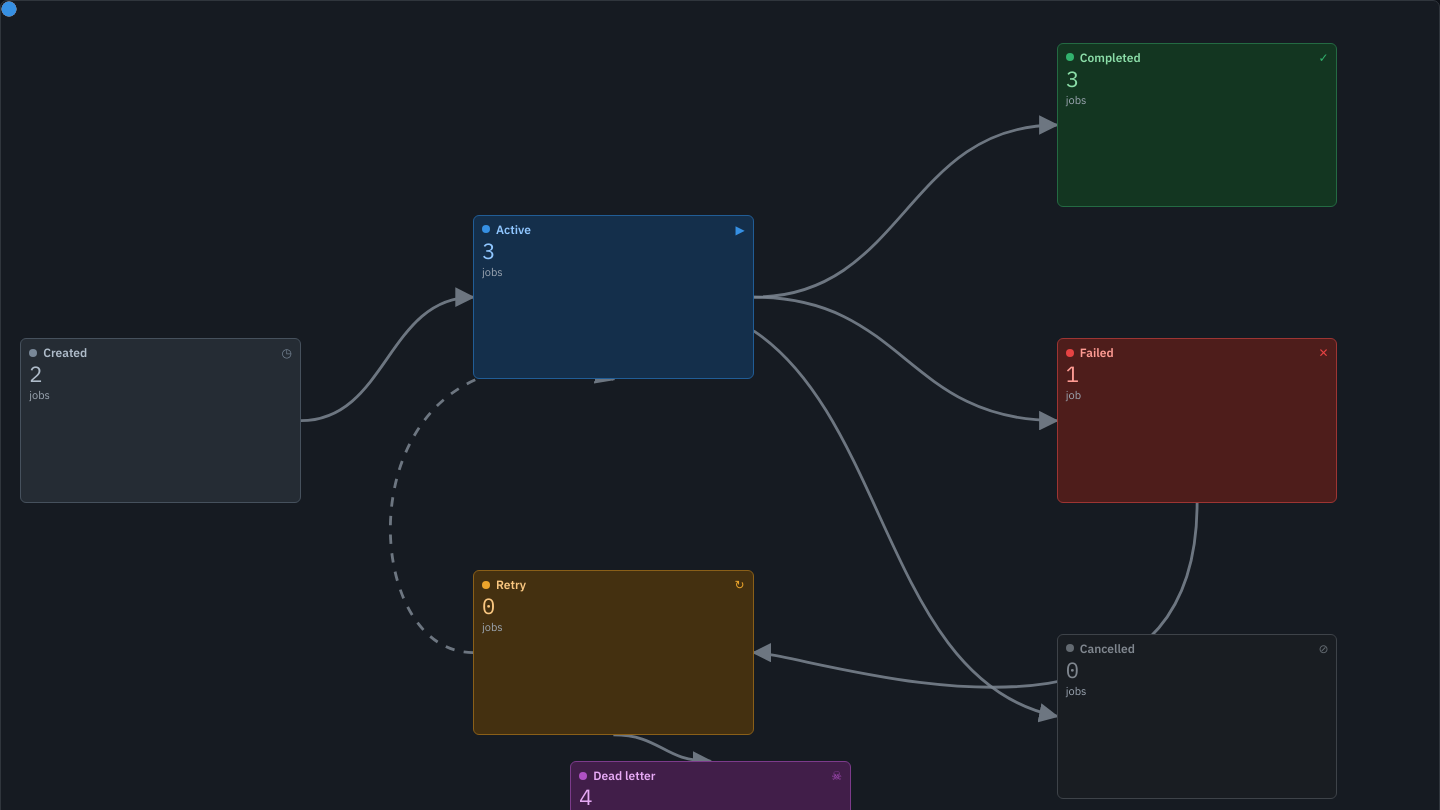
Test: LifecycleHomeContainerComponent › selects a clicked node and surfaces its local teaching copy in the hero callout
Click the button "Active ▶ 3 jobs" at point(513, 229), box [473, 215, 754, 379]
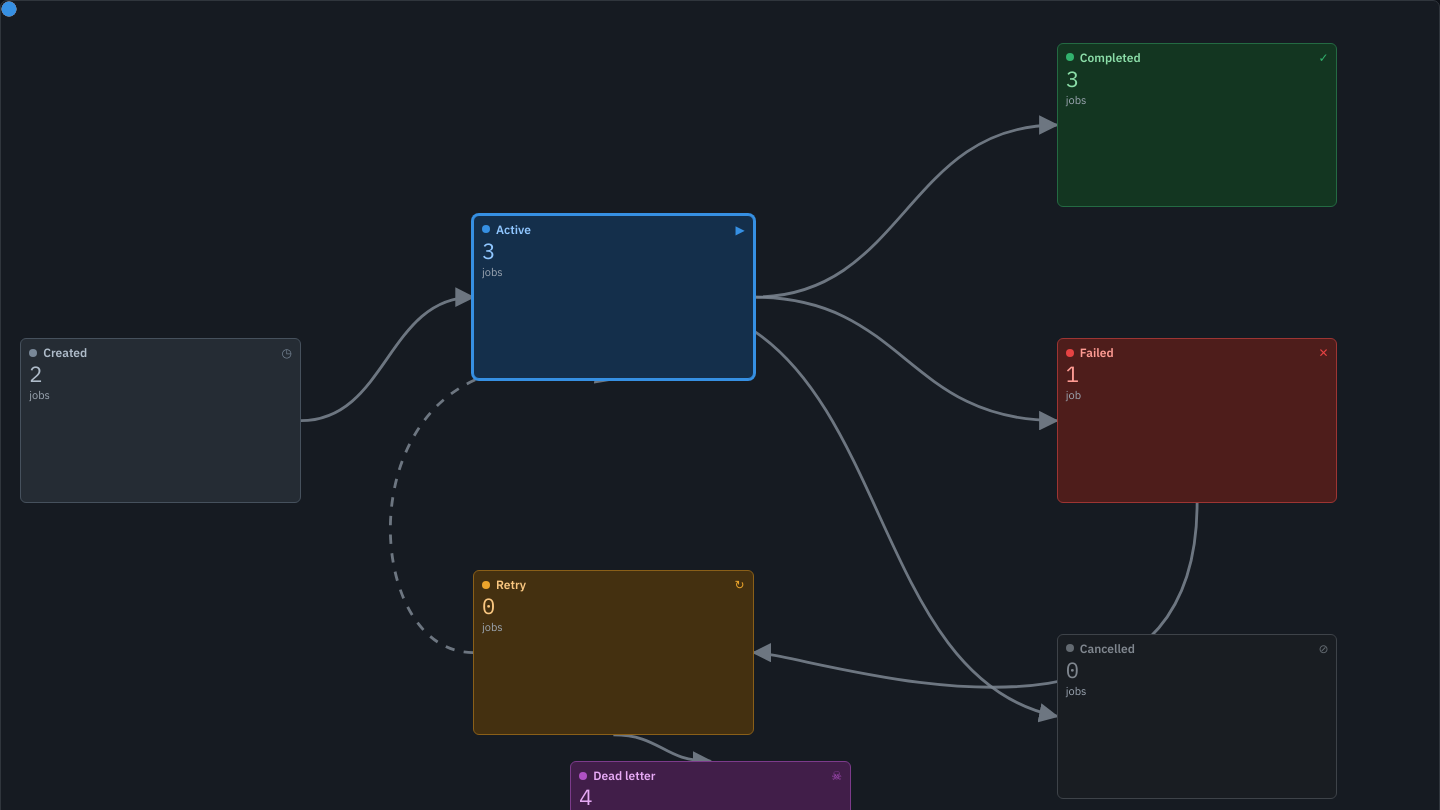
Click the button "Failed ✕ 1 job" at point(1097, 353), box [1057, 338, 1338, 503]
(page scrolled)
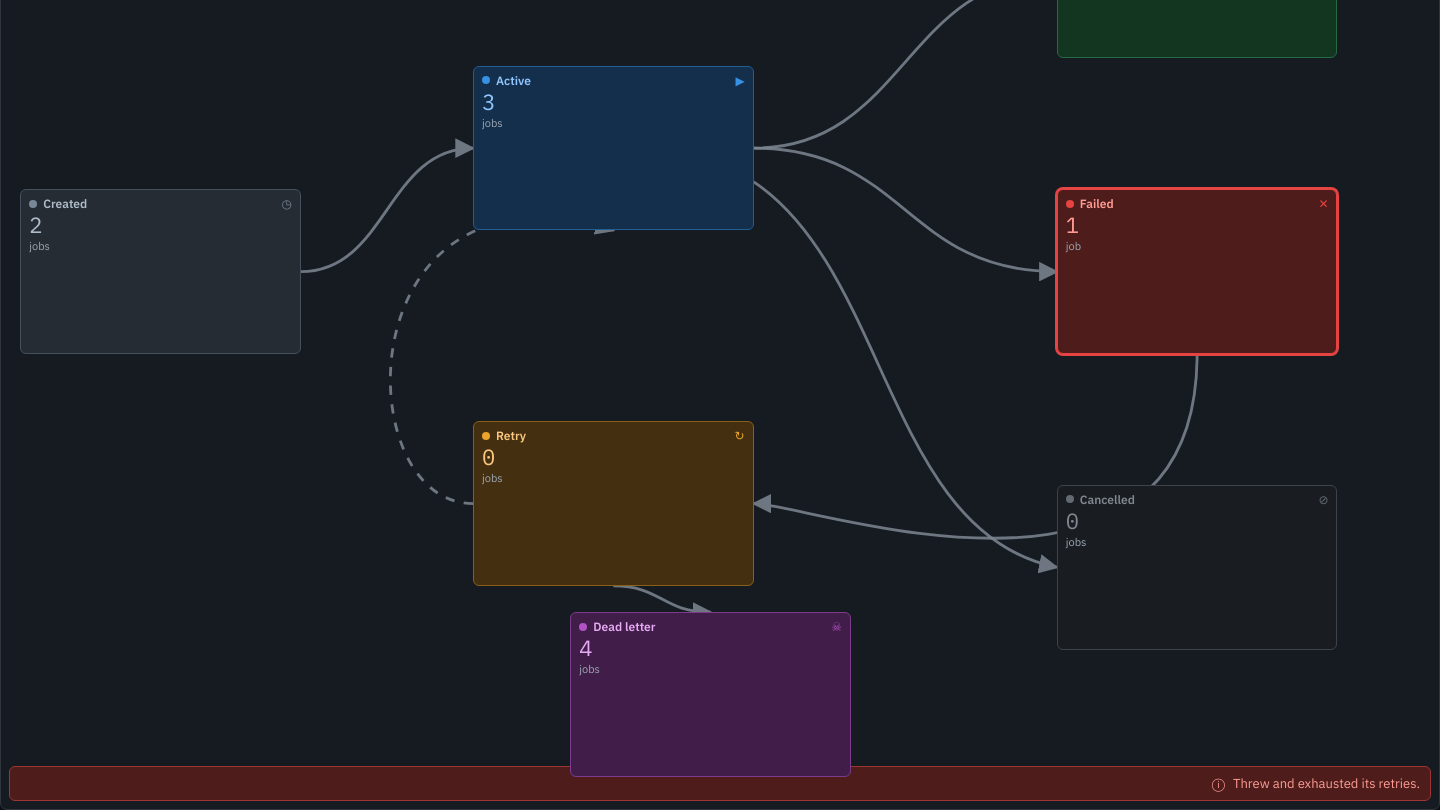
Expected: the text "Threw and exhausted its retries." is shown, [1233, 775, 1420, 792]
